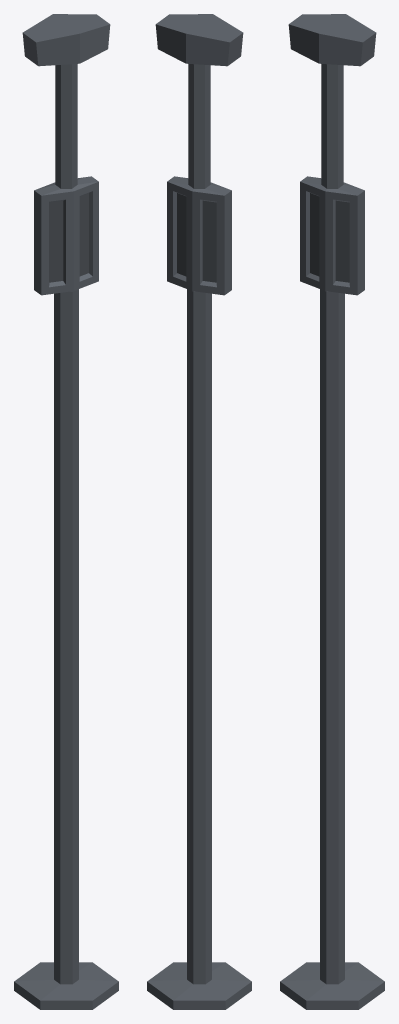
The model's file is SM_Prop_TentPole_01.glb.
3 views of the same model, side by side, from view 1: azimuth 30°, elevation 25°; view 2: azimuth 150°, elevation 25°; view 3: azimuth 330°, elevation 25° (orthographic).
Parts seen in each view (by area): view 1: SM_Prop_TentPole_01; view 2: SM_Prop_TentPole_01; view 3: SM_Prop_TentPole_01.
Boxes of the visible parts, x1=… form: SM_Prop_TentPole_01: x1=14, y1=14, x2=118, y2=1009; SM_Prop_TentPole_01: x1=147, y1=14, x2=251, y2=1009; SM_Prop_TentPole_01: x1=280, y1=14, x2=384, y2=1009.
Bounding box in the file's own units: 0.2809 × 3.3 × 0.3243.
Materials: 1 (1 with a texture image).
